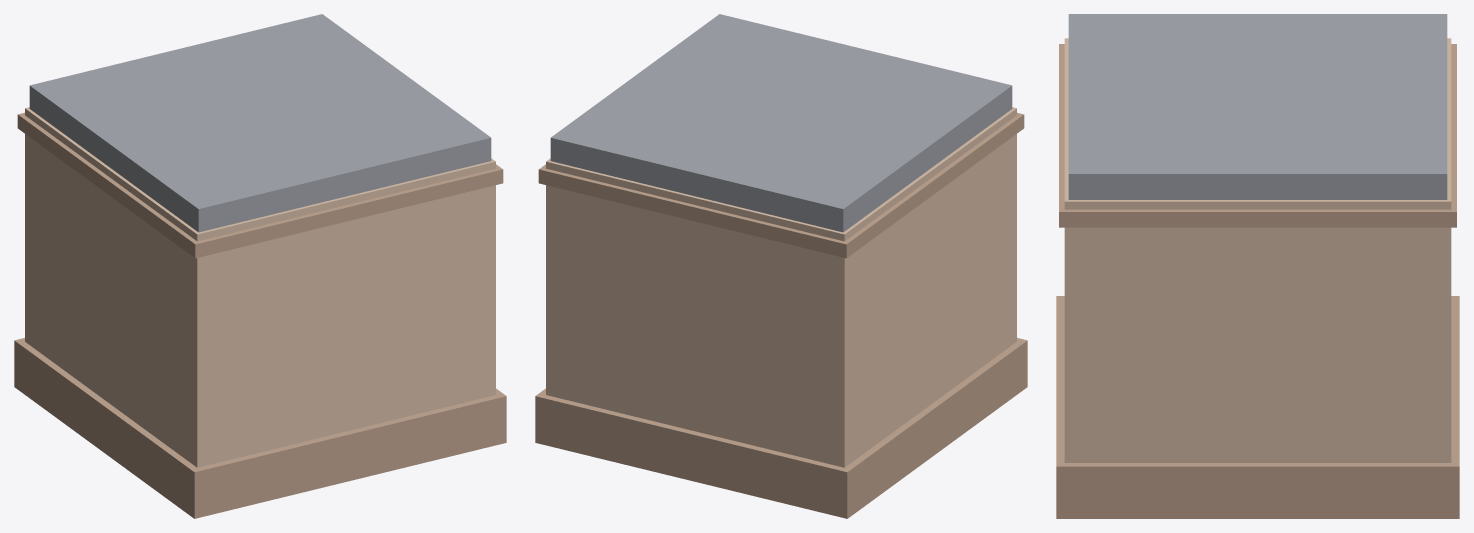
Rendered from bld_arcade_b.glb.
3 renders of one model, left to right at view 1: azimuth 30°, elevation 25°; view 2: azimuth 150°, elevation 25°; view 3: azimuth 270°, elevation 25°, orthographic. The views are drawn at different scales.
Visible parts, largest first — view 1: BldArcadeB_2, BldArcadeB_6, BldArcadeB_3; view 2: BldArcadeB_2, BldArcadeB_6, BldArcadeB_3; view 3: BldArcadeB_2, BldArcadeB_6, BldArcadeB_3.
Part boxes in pixels (x1=…): BldArcadeB_2: x1=25, y1=107, x2=495, y2=467; BldArcadeB_6: x1=29, y1=14, x2=491, y2=232; BldArcadeB_3: x1=14, y1=112, x2=506, y2=518; BldArcadeB_2: x1=546, y1=107, x2=1016, y2=467; BldArcadeB_6: x1=550, y1=14, x2=1012, y2=232; BldArcadeB_3: x1=535, y1=112, x2=1027, y2=518; BldArcadeB_2: x1=1064, y1=38, x2=1451, y2=462; BldArcadeB_6: x1=1068, y1=14, x2=1447, y2=199; BldArcadeB_3: x1=1056, y1=44, x2=1459, y2=518.
Size of the model in its own units: 7 by 6.5 by 7.
